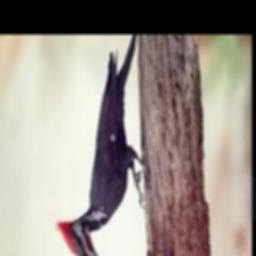Woodpecker: (56, 34, 145, 256)
